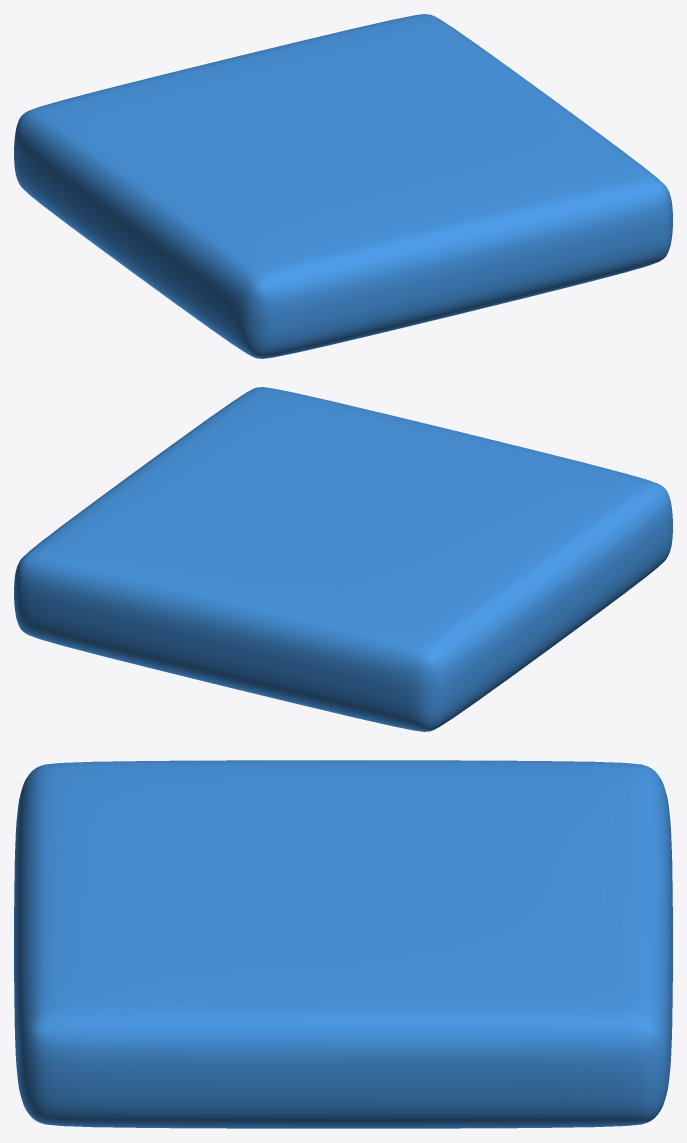
The model's file is Launch Pad.fbx.
3 views of the same model, one above another, from view 1: azimuth 30°, elevation 25°; view 2: azimuth 150°, elevation 25°; view 3: azimuth 270°, elevation 25° (orthographic). The views are drawn at different scales.
Parts seen in each view (by area): view 1: Launch Pad; view 2: Launch Pad; view 3: Launch Pad.
Part boxes in pixels (x1,y1,x2,y2): Launch Pad: [14, 14, 672, 358]; Launch Pad: [14, 387, 672, 731]; Launch Pad: [14, 760, 672, 1128].
Bounding box in the file's own units: 200 × 41.59 × 200.
